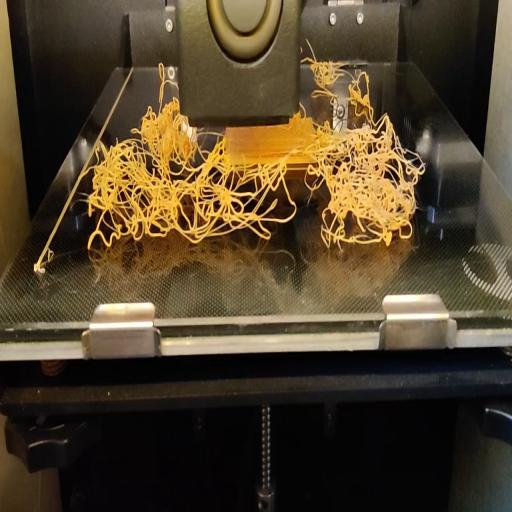spaghetti: (80, 103, 428, 255), (300, 38, 370, 102), (153, 59, 177, 105)
